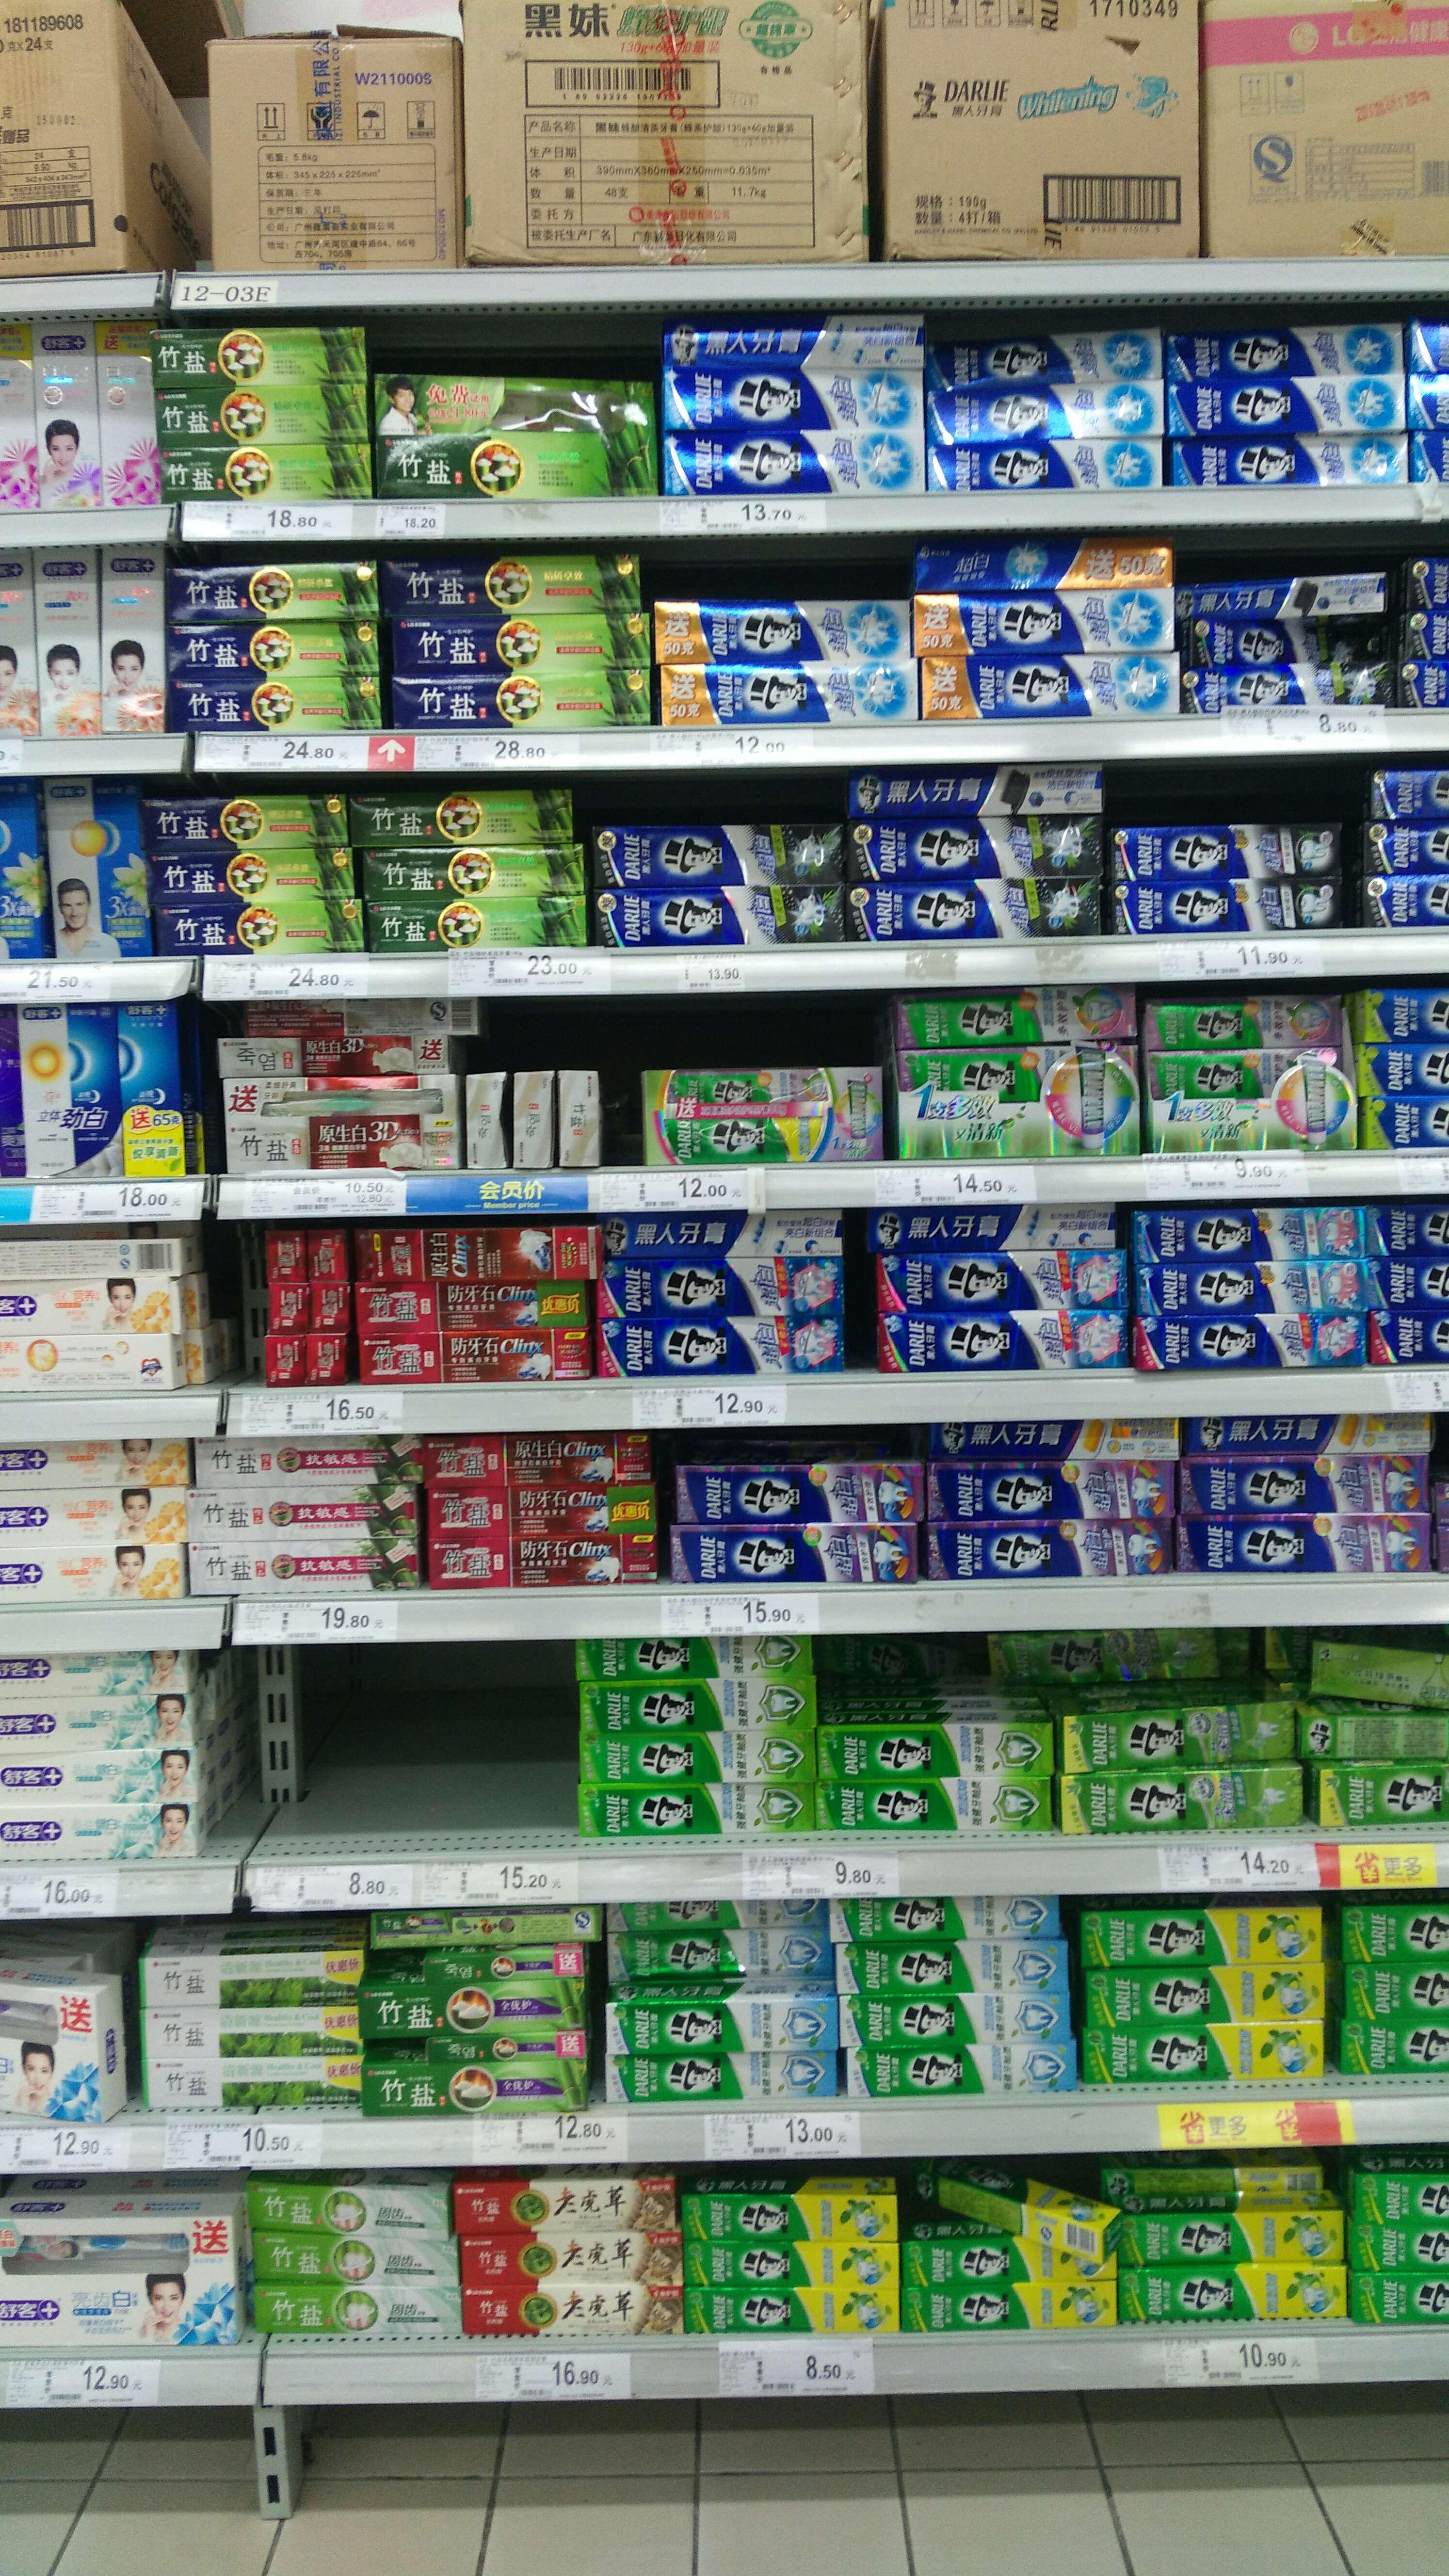empty: (285, 1675, 563, 1838)
